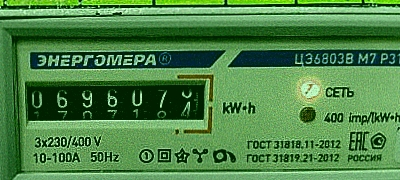0: (129, 85, 145, 107), (29, 87, 44, 108)
4: (179, 98, 192, 119)
6: (54, 86, 69, 107), (104, 87, 119, 107)
7: (154, 87, 170, 108)
9: (79, 86, 93, 108)
screen: (12, 70, 219, 130)
